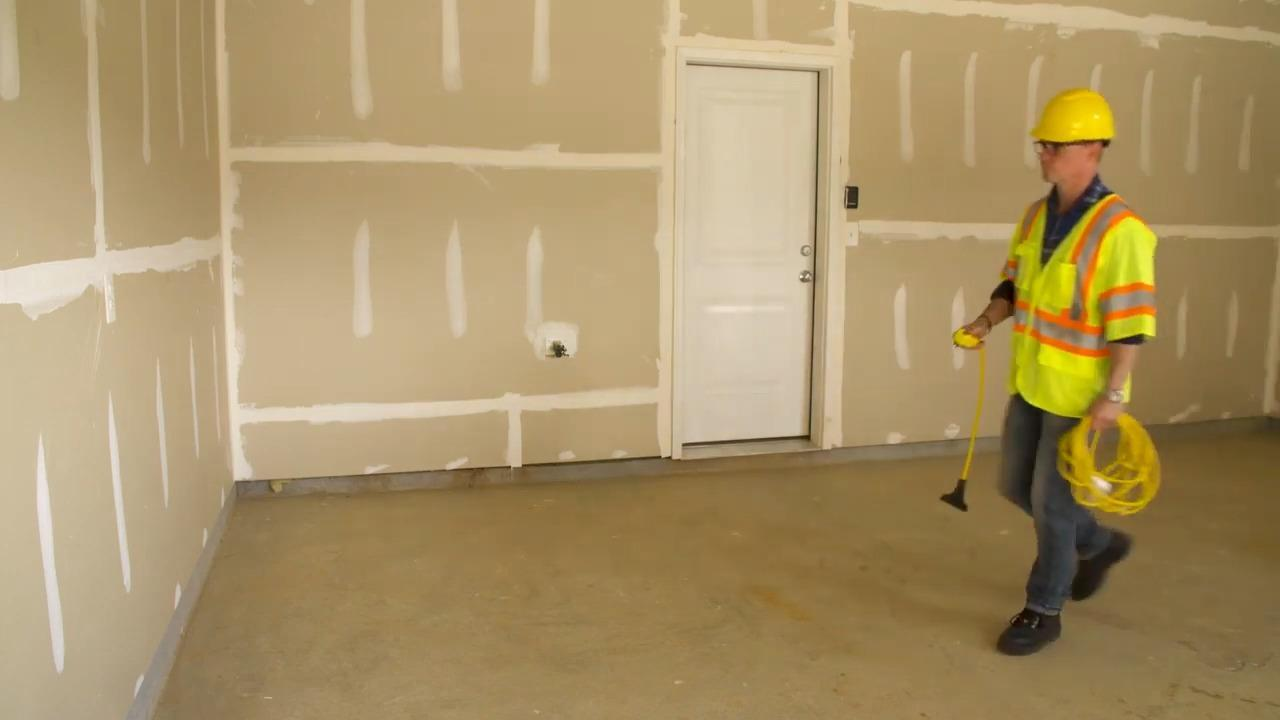Helmet: (1028, 90, 1115, 144)
Person: (951, 88, 1160, 656)
Safety Boot: (1001, 606, 1062, 657), (1077, 533, 1125, 595)
Safety Vest: (1017, 195, 1150, 412)
bare-arms: (958, 313, 1001, 350), (1082, 396, 1129, 425)
